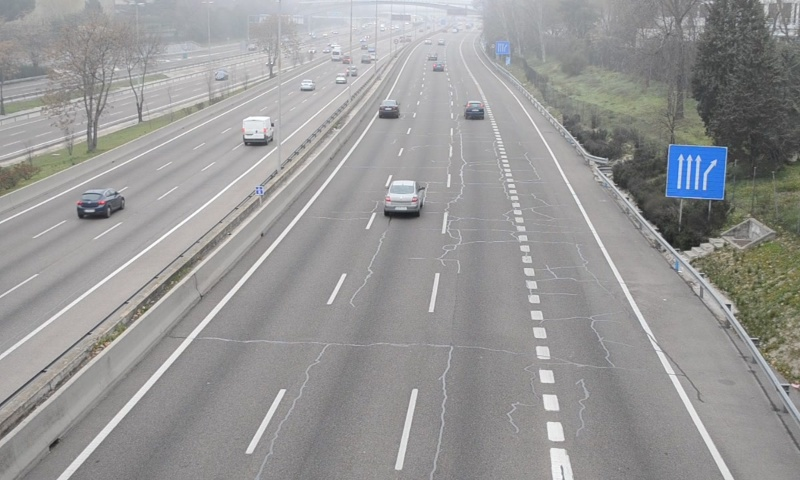car: (385, 180, 421, 214), (378, 99, 400, 118), (464, 101, 485, 120)
